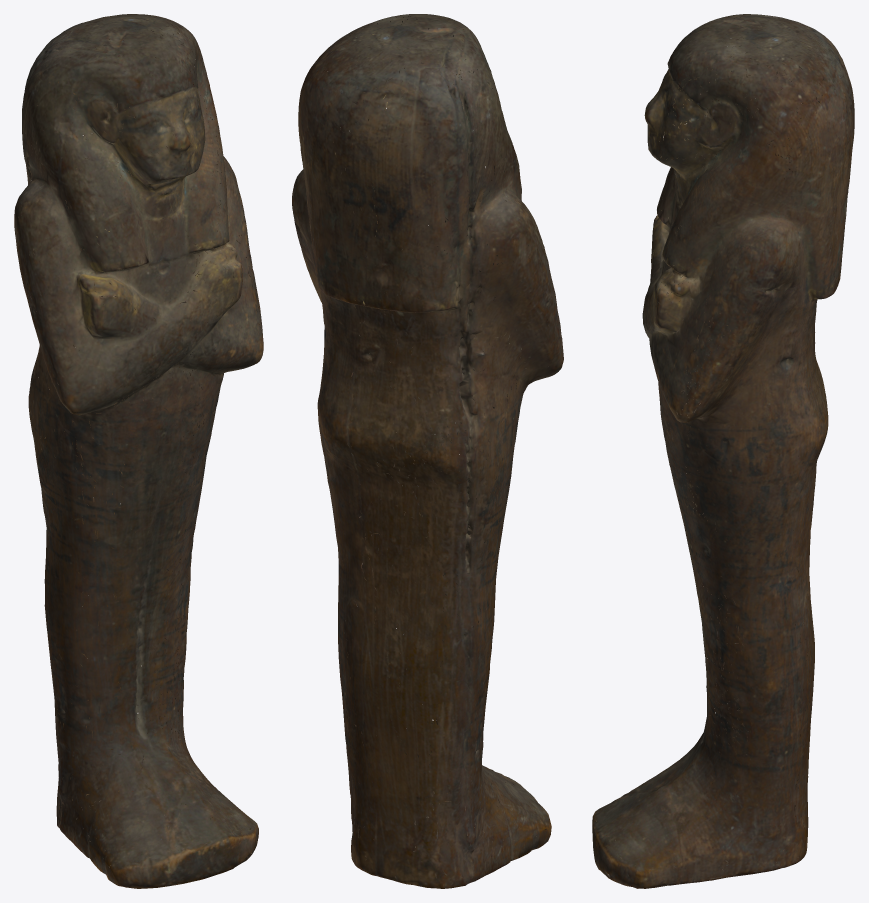
Rendered from shawabti-nedjem.glb.
3 renders of one model, left to right at view 1: azimuth 30°, elevation 25°; view 2: azimuth 150°, elevation 25°; view 3: azimuth 270°, elevation 25°, orthographic. The views are drawn at different scales.
Parts seen in each view (by area): view 1: Object_4, Object_3, Object_5, Object_6, Object_7, Object_2; view 2: Object_5, Object_4, Object_2, Object_3, Object_6; view 3: Object_2, Object_6, Object_7, Object_3, Object_5, Object_4.
Part boxes in pixels (bbox=[...]): Object_4: bbox=[14, 14, 235, 868]; Object_3: bbox=[30, 22, 258, 888]; Object_5: bbox=[15, 14, 258, 878]; Object_6: bbox=[68, 28, 257, 850]; Object_7: bbox=[97, 15, 262, 835]; Object_2: bbox=[22, 14, 263, 759]; Object_5: bbox=[299, 14, 562, 887]; Object_4: bbox=[341, 16, 563, 862]; Object_2: bbox=[299, 19, 487, 838]; Object_3: bbox=[351, 14, 551, 888]; Object_6: bbox=[292, 52, 526, 789]; Object_2: bbox=[654, 54, 819, 876]; Object_6: bbox=[593, 55, 854, 882]; Object_7: bbox=[610, 55, 814, 880]; Object_3: bbox=[592, 14, 853, 888]; Object_5: bbox=[601, 14, 854, 888]; Object_4: bbox=[626, 14, 853, 797].
Size of the model in its own units: 69.25 by 237 by 68.11.
Materials: 1 (1 with a texture image).
